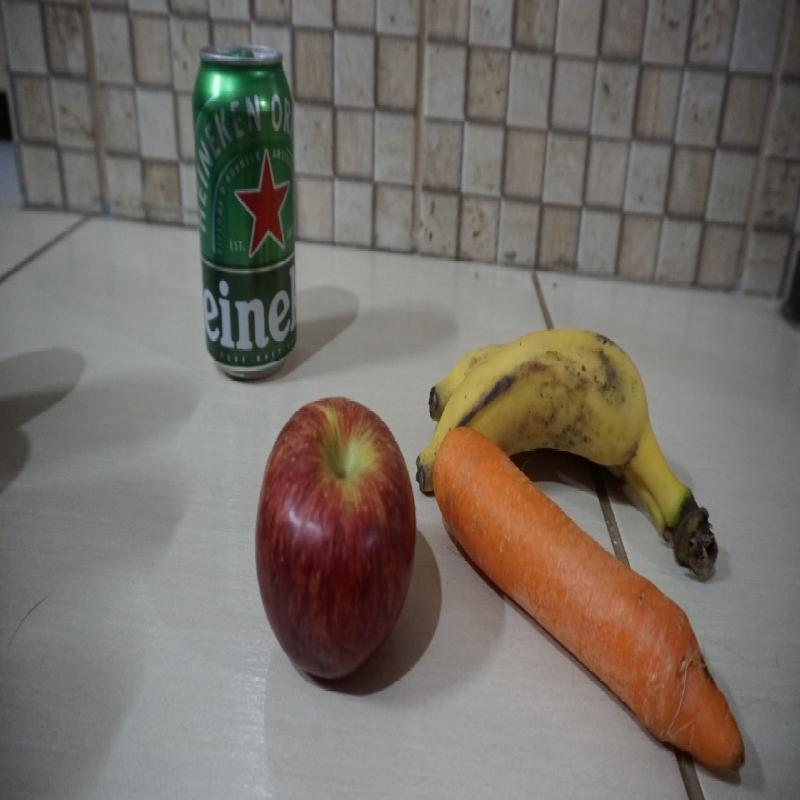Apple: (255, 397, 416, 685)
Banana: (419, 329, 691, 492)
Beer can: (192, 42, 300, 376)
Carrot: (434, 429, 747, 772)
